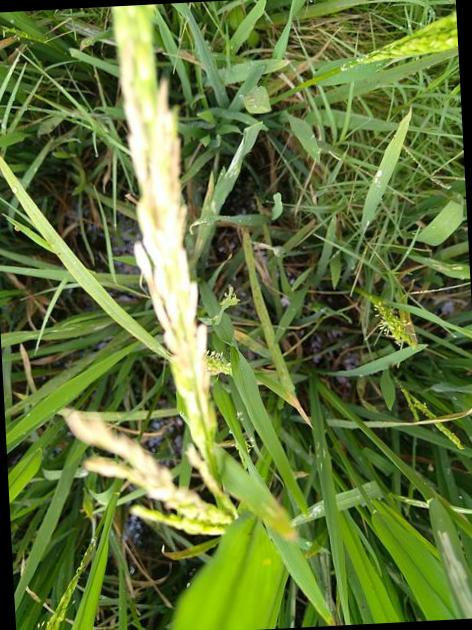Panicle Blight: (128, 110, 198, 346), (60, 407, 177, 499)
